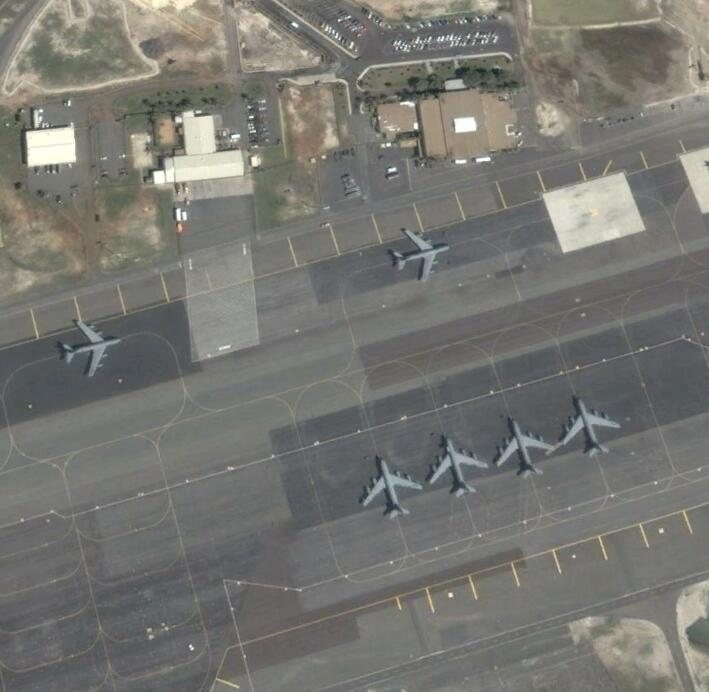A14: (61, 318, 125, 380), (363, 458, 423, 520), (431, 436, 489, 497), (390, 228, 452, 285), (565, 396, 623, 456), (495, 419, 555, 475)
